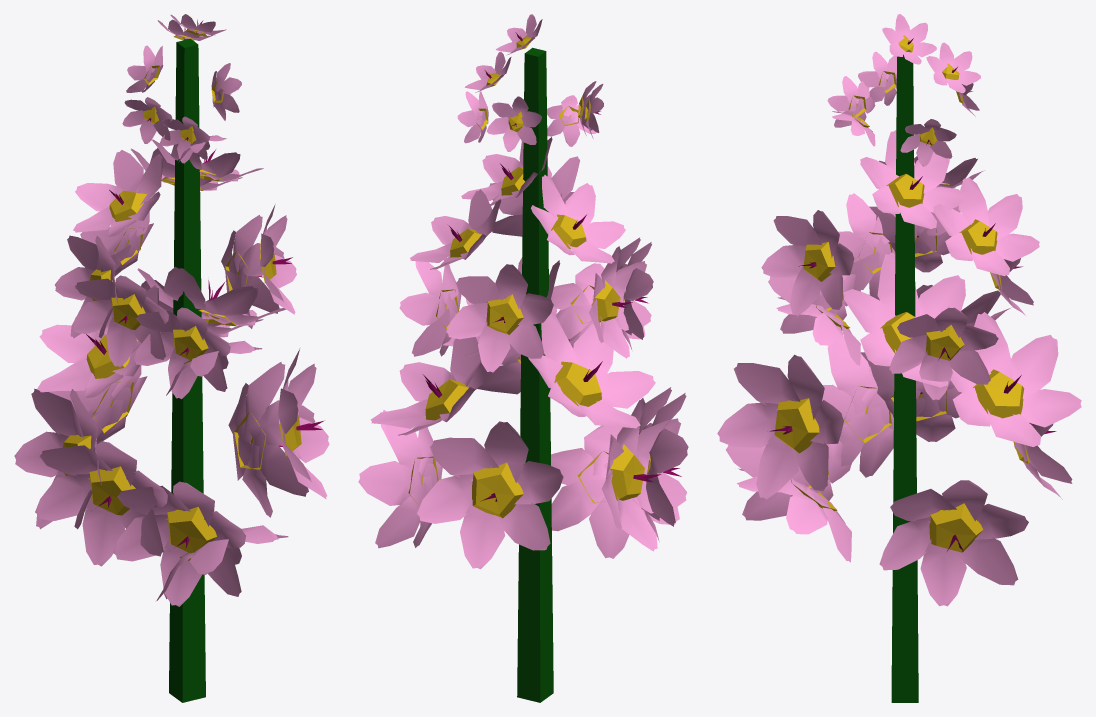
Rendered from whiteflower.fbx.
3 renders of one model, left to right at view 1: azimuth 30°, elevation 25°; view 2: azimuth 150°, elevation 25°; view 3: azimuth 270°, elevation 25°, orthographic.
Parts seen in each view (by area): view 1: cicek; view 2: cicek; view 3: cicek.
Boxes of the visible parts, x1=… form: cicek: x1=14, y1=14, x2=329, y2=702; cicek: x1=358, y1=14, x2=688, y2=702; cicek: x1=717, y1=14, x2=1081, y2=702.
Size of the model in its own units: 248 by 586 by 284.
